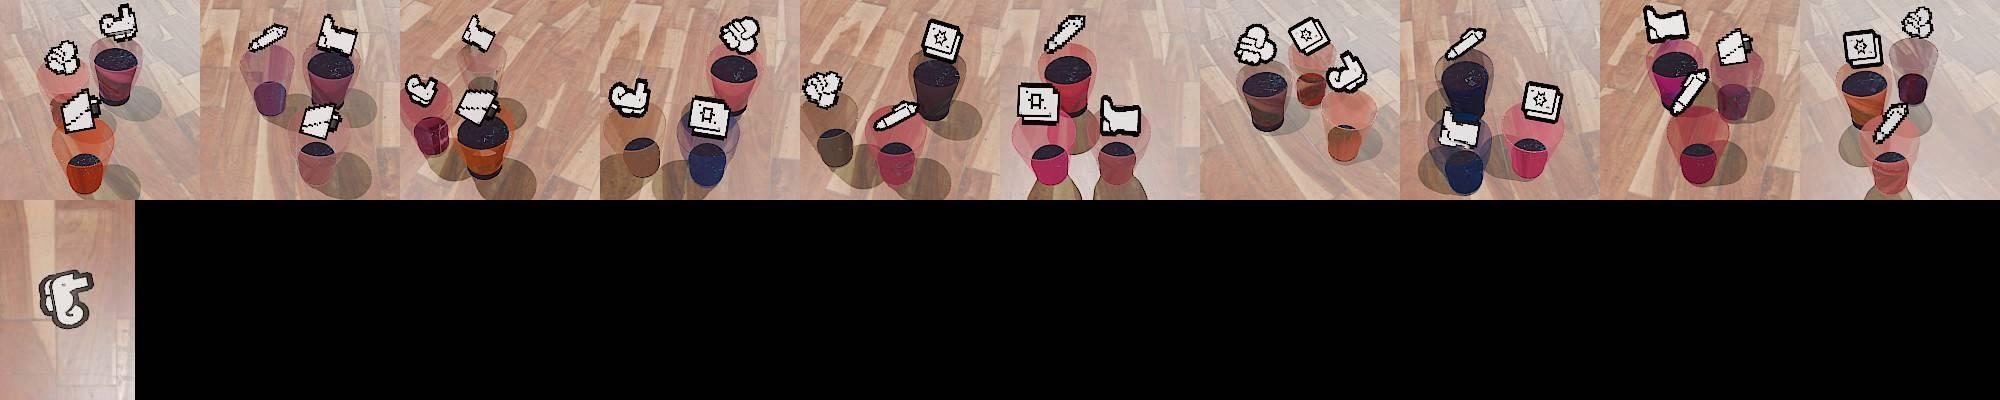icon: (37, 269, 94, 330), (1668, 65, 1710, 117), (59, 87, 102, 135), (921, 18, 963, 65), (1017, 82, 1060, 126), (1325, 48, 1369, 93), (686, 96, 731, 139), (1520, 80, 1564, 125), (316, 14, 360, 57), (1235, 23, 1277, 66), (1098, 94, 1142, 136), (454, 85, 499, 126), (1643, 4, 1689, 43), (607, 75, 651, 116), (1043, 14, 1087, 55), (1436, 111, 1481, 150), (297, 101, 343, 139), (801, 70, 844, 110), (1287, 17, 1330, 56), (1441, 25, 1486, 64), (718, 15, 760, 55), (98, 3, 139, 42), (1874, 101, 1909, 145), (1714, 28, 1754, 68), (1843, 29, 1884, 68), (874, 99, 921, 131), (460, 13, 496, 54), (43, 38, 80, 76), (247, 22, 288, 54), (1901, 6, 1935, 39), (406, 73, 439, 107)
